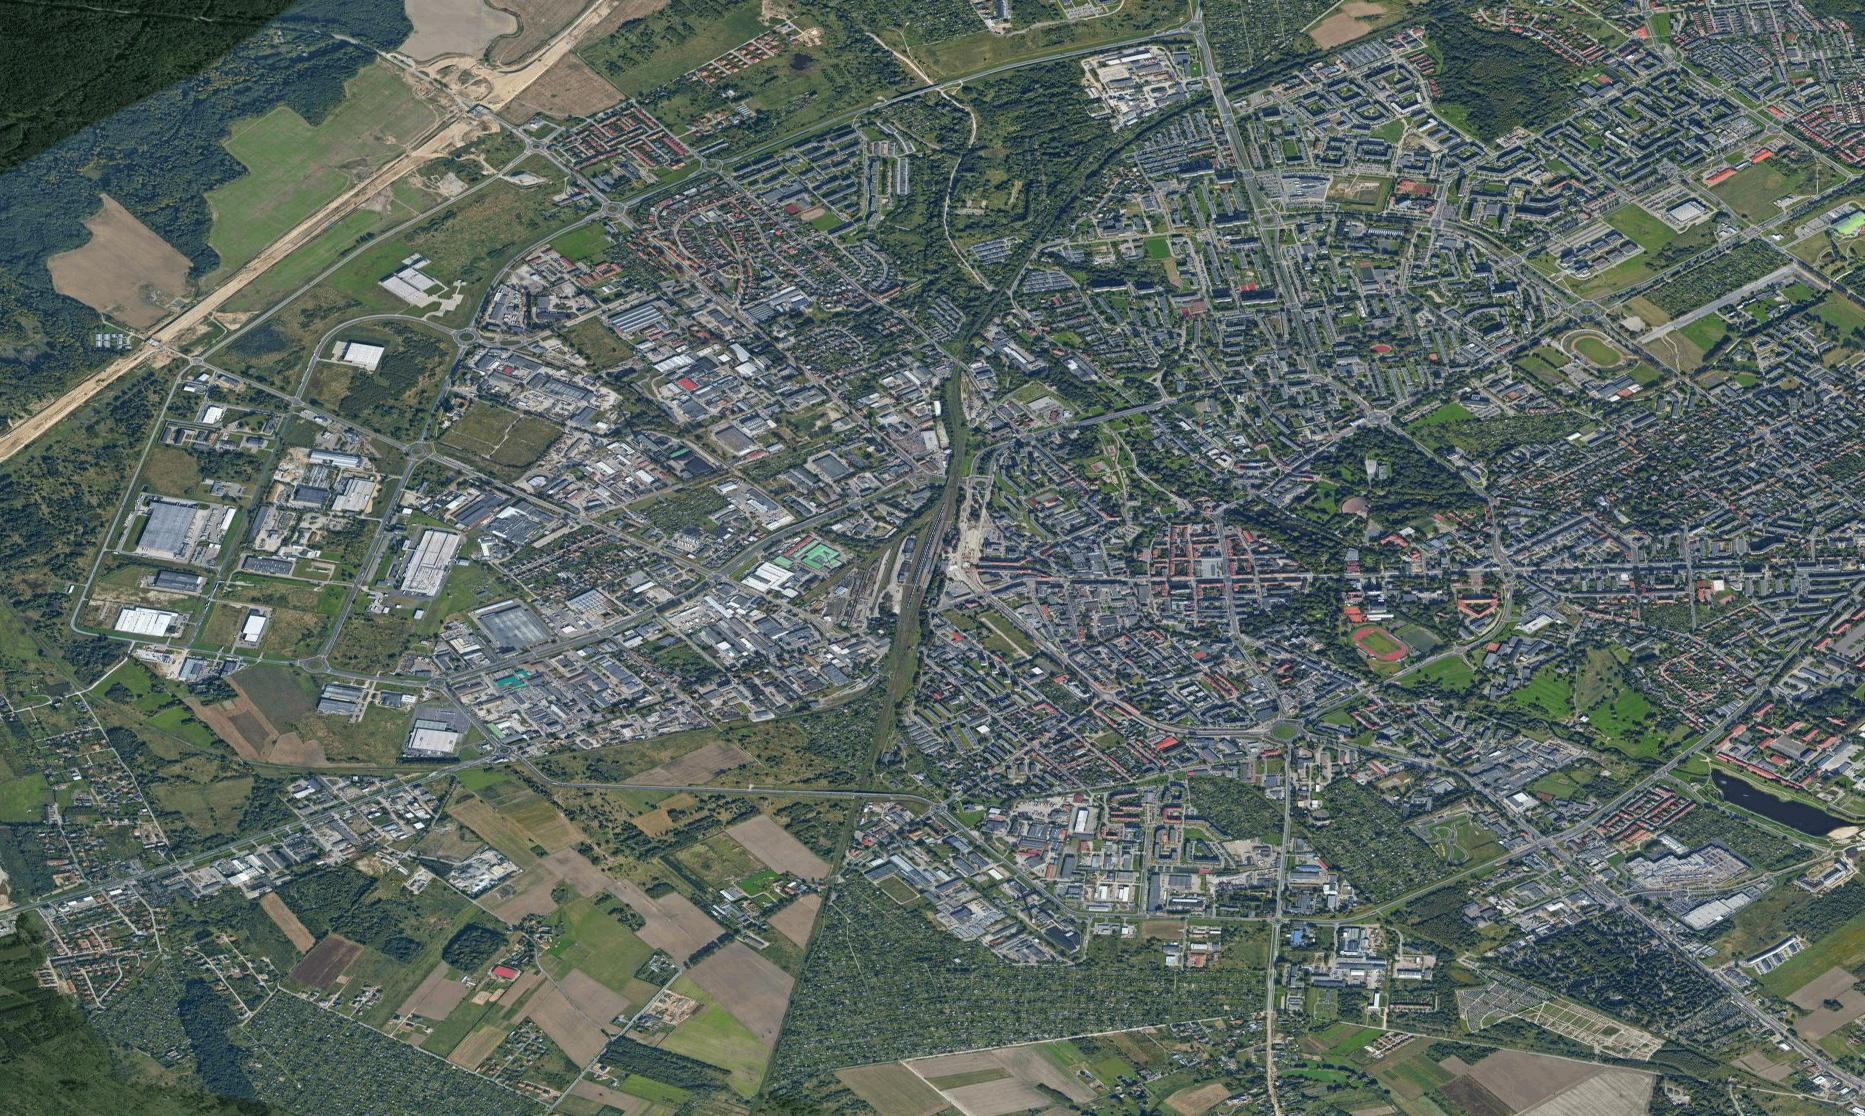industrial: (618, 573, 846, 700)
train_station: (894, 492, 962, 618)
